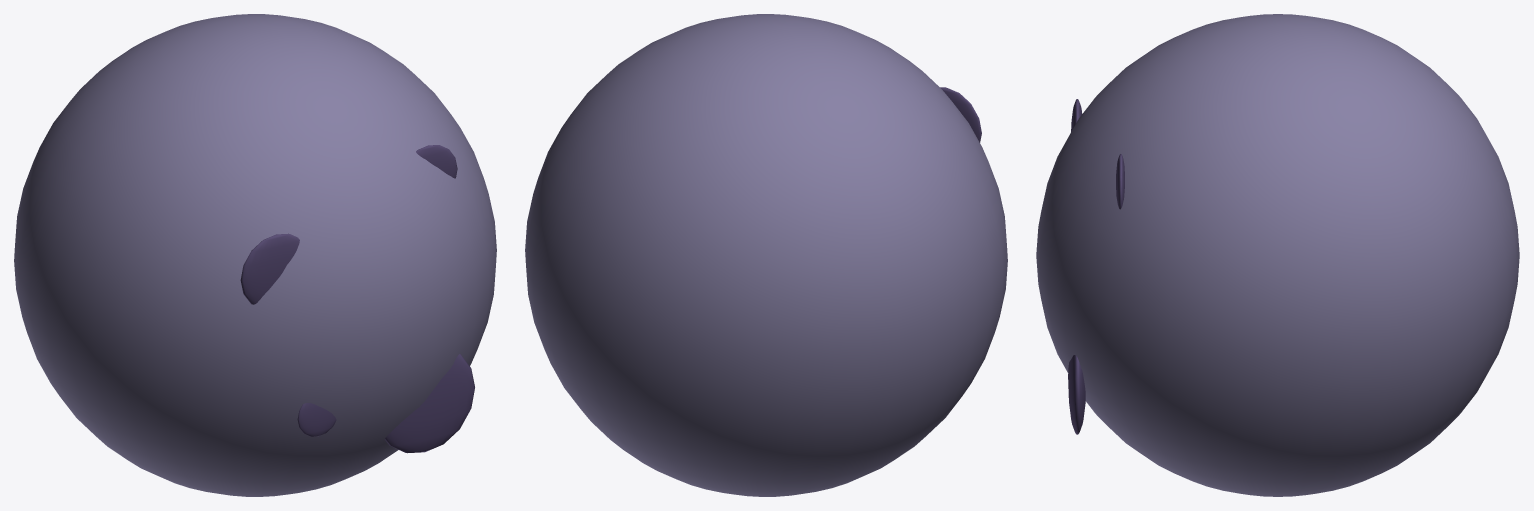
Rendered from planet-moon.glb.
The picture shows the model from 3 angles, left to right: view 1: azimuth 30°, elevation 25°; view 2: azimuth 150°, elevation 25°; view 3: azimuth 270°, elevation 25°; orthographic projection.
Parts seen in each view (by area): view 1: shell; view 2: shell; view 3: shell.
Part boxes in pixels (<box>): shell: <box>14,14,496,496</box>; shell: <box>525,14,1007,496</box>; shell: <box>1036,14,1519,496</box>.
Bounding box in the file's own units: 2 × 2 × 2.
